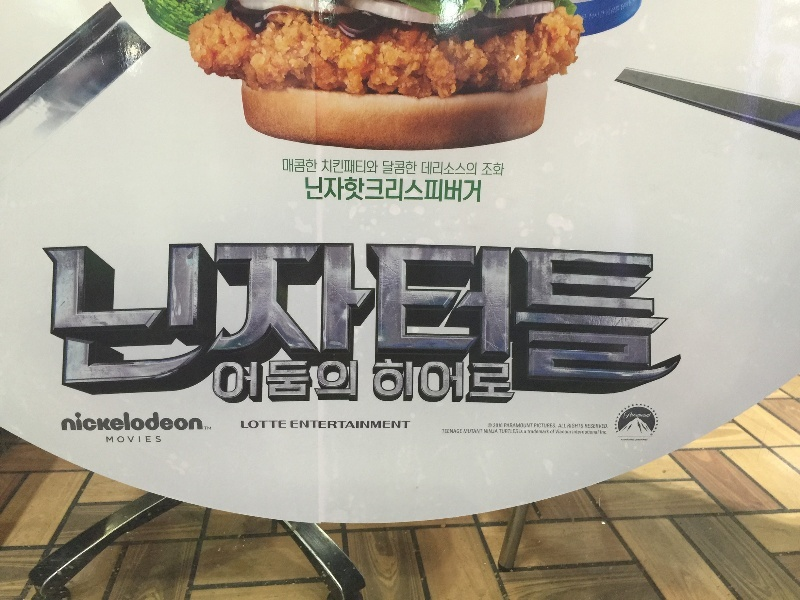text: (49, 238, 64, 393), (65, 238, 80, 393), (81, 238, 96, 393), (97, 238, 112, 393), (113, 238, 128, 393), (129, 238, 144, 393), (145, 238, 160, 393), (161, 238, 176, 393), (177, 238, 192, 393), (193, 238, 208, 393), (209, 238, 224, 393), (225, 238, 240, 393), (241, 238, 256, 393), (257, 238, 272, 393), (273, 238, 288, 393), (289, 238, 304, 393), (305, 238, 320, 393), (321, 238, 336, 393), (337, 238, 352, 393), (353, 238, 368, 393), (369, 238, 384, 393), (385, 238, 400, 393), (401, 238, 416, 393), (417, 238, 432, 393), (433, 238, 448, 393), (449, 238, 464, 393), (465, 238, 480, 393), (481, 238, 496, 393), (497, 238, 512, 393), (513, 238, 528, 393), (529, 238, 544, 393), (545, 238, 560, 393), (561, 238, 576, 393), (577, 238, 592, 393), (593, 238, 608, 393), (609, 238, 624, 393), (625, 238, 640, 393), (641, 238, 656, 393), (657, 238, 672, 393), (673, 238, 683, 393), (40, 238, 48, 393), (385, 359, 400, 405), (401, 359, 416, 405), (417, 359, 432, 405), (433, 359, 448, 405), (449, 359, 464, 405), (465, 359, 480, 405), (481, 359, 496, 405), (497, 359, 512, 405), (225, 360, 240, 402), (241, 360, 256, 402), (257, 360, 272, 402), (273, 360, 288, 402), (289, 360, 304, 402), (305, 360, 320, 402), (321, 360, 336, 402), (337, 360, 352, 402), (373, 359, 384, 405), (213, 360, 224, 402), (305, 176, 320, 203), (321, 176, 336, 203), (337, 176, 352, 203), (353, 176, 368, 203), (369, 176, 384, 203), (385, 176, 400, 203), (401, 176, 416, 203), (417, 176, 432, 203), (433, 176, 448, 203), (449, 176, 464, 203), (465, 176, 480, 203), (65, 412, 80, 433), (81, 412, 96, 433), (97, 412, 112, 433), (113, 412, 128, 433), (129, 412, 144, 433), (145, 412, 160, 433), (161, 412, 176, 433), (177, 412, 192, 433), (353, 360, 359, 402), (385, 160, 400, 176), (401, 160, 416, 176), (433, 161, 448, 177), (449, 161, 464, 177), (321, 159, 336, 174), (337, 159, 352, 174), (353, 159, 368, 174), (193, 412, 203, 433), (289, 159, 304, 173), (482, 162, 496, 176), (465, 161, 477, 177), (513, 359, 517, 405), (305, 159, 318, 173), (421, 161, 432, 177), (369, 159, 379, 174), (241, 420, 256, 429), (257, 420, 272, 429), (305, 420, 320, 429), (321, 420, 336, 429), (337, 420, 352, 429), (353, 420, 368, 429), (369, 420, 384, 429), (385, 420, 400, 429), (273, 420, 287, 429), (290, 420, 304, 429), (113, 436, 128, 444), (129, 436, 144, 444), (145, 436, 160, 444), (625, 411, 640, 419), (497, 162, 505, 176), (401, 420, 411, 429), (641, 411, 652, 419), (465, 429, 480, 434), (529, 430, 544, 435), (577, 430, 592, 435), (593, 424, 608, 429), (513, 423, 528, 428), (449, 429, 463, 434), (283, 159, 288, 173), (61, 412, 64, 433), (500, 429, 512, 434), (561, 429, 571, 435), (545, 423, 556, 428), (534, 423, 544, 428), (106, 436, 112, 444), (484, 430, 496, 434), (567, 424, 576, 429), (625, 439, 640, 442), (520, 429, 528, 434), (504, 423, 512, 428), (551, 430, 560, 434), (593, 430, 600, 435), (601, 430, 608, 435), (585, 424, 592, 429), (577, 424, 584, 429), (442, 429, 448, 434), (513, 429, 519, 434), (561, 424, 567, 429), (497, 423, 503, 428), (481, 176, 482, 203), (203, 426, 208, 431), (545, 430, 550, 435), (556, 429, 560, 435), (489, 424, 496, 427), (641, 439, 648, 442), (572, 430, 576, 435), (529, 423, 533, 428), (383, 160, 384, 176), (417, 160, 418, 176), (209, 426, 212, 431), (493, 423, 496, 428), (524, 431, 528, 434), (481, 429, 483, 434), (621, 439, 624, 442), (161, 436, 162, 444), (559, 424, 560, 429), (497, 430, 498, 434)
